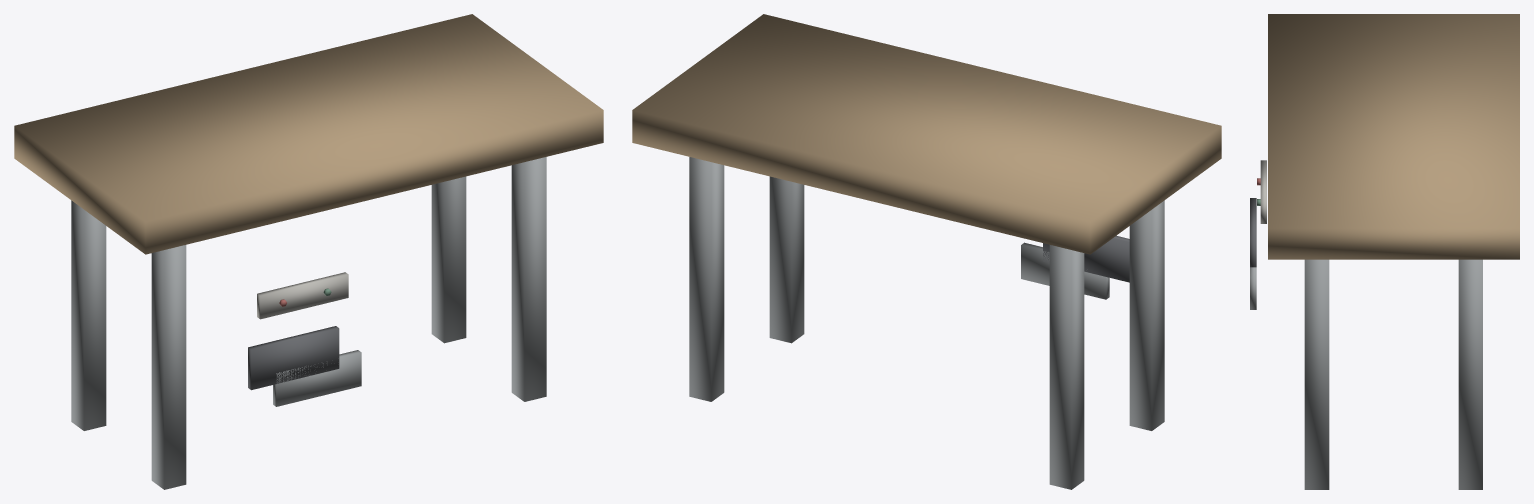
File: workbench__weathered.glb
3 views of the same model, side by side, from view 1: azimuth 30°, elevation 25°; view 2: azimuth 150°, elevation 25°; view 3: azimuth 270°, elevation 25° (orthographic). The views are drawn at different scales.
Parts seen in each view (by area): view 1: world; view 2: world; view 3: world.
Boxes of the visible parts, box(x1,y1,x2,y2) form: world: box(14, 14, 603, 489); world: box(632, 14, 1221, 489); world: box(1250, 14, 1519, 489).
Bounding box in the file's own units: 1.45 × 0.8811 × 0.7709.
